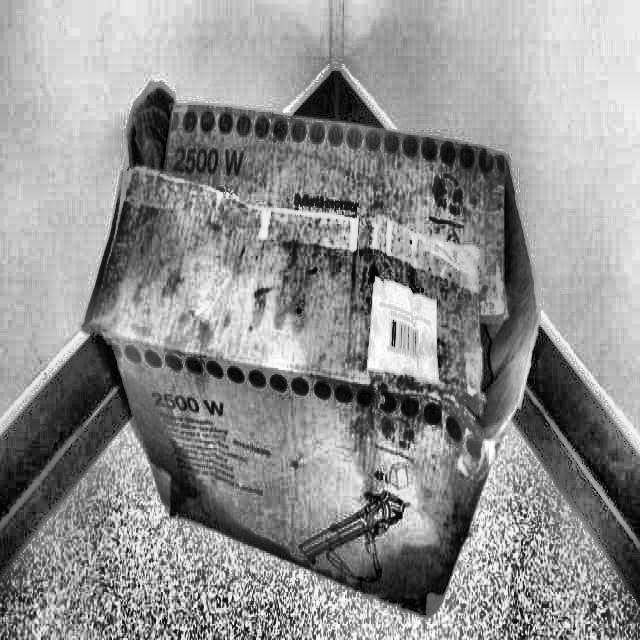box: (81, 73, 516, 630)
hole: (134, 89, 184, 188)
